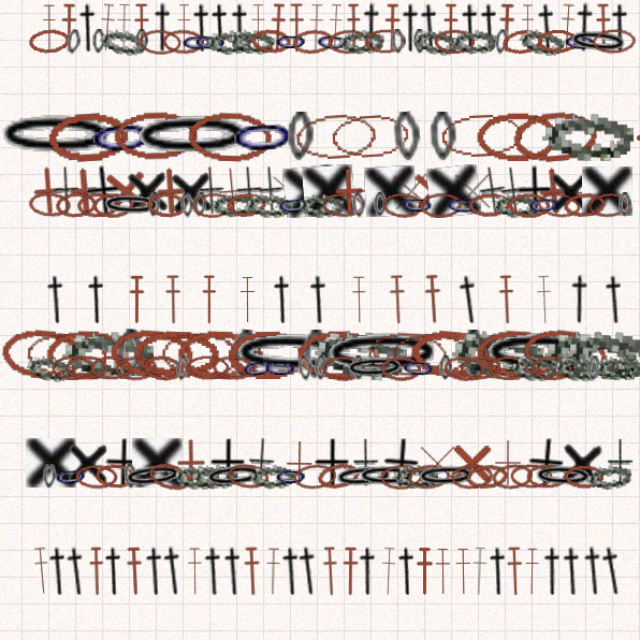chain: (127, 141, 242, 189), (219, 344, 334, 392), (0, 141, 115, 188), (304, 344, 419, 391), (452, 344, 567, 391), (489, 340, 574, 396), (297, 341, 385, 394), (425, 342, 512, 393), (4, 341, 87, 394), (512, 343, 598, 392), (532, 343, 618, 392), (481, 139, 562, 191), (385, 342, 466, 394), (276, 139, 358, 190), (106, 342, 187, 393), (26, 343, 107, 393), (344, 343, 425, 393), (447, 343, 528, 393), (412, 140, 494, 189), (310, 140, 390, 190), (510, 141, 595, 188), (63, 344, 148, 391), (48, 140, 127, 190), (151, 343, 231, 392), (128, 344, 209, 392), (169, 344, 250, 392), (47, 344, 127, 392), (179, 141, 258, 189), (110, 141, 189, 188), (281, 345, 360, 391), (367, 345, 445, 391), (448, 142, 525, 188), (216, 345, 293, 391), (85, 140, 152, 190), (217, 140, 283, 189), (118, 467, 177, 496), (533, 63, 591, 91), (194, 468, 252, 495), (315, 469, 373, 495), (141, 465, 185, 498), (325, 368, 383, 393), (392, 469, 449, 494), (501, 469, 558, 494), (99, 217, 156, 241), (487, 62, 532, 92), (370, 141, 398, 189), (219, 344, 247, 392), (337, 470, 394, 493), (112, 344, 139, 391), (97, 63, 141, 91), (389, 63, 433, 91), (29, 367, 73, 395), (550, 468, 594, 496), (299, 467, 341, 496), (471, 63, 513, 91), (504, 215, 546, 243), (272, 142, 297, 188), (405, 142, 430, 188), (434, 345, 459, 391), (197, 64, 240, 90), (521, 368, 564, 394), (432, 367, 473, 394), (215, 468, 256, 495), (287, 345, 311, 391), (277, 469, 319, 495), (137, 367, 177, 394), (462, 468, 502, 495), (218, 64, 261, 89), (320, 64, 363, 89), (425, 64, 468, 89), (201, 216, 244, 241), (184, 469, 227, 494), (237, 469, 280, 494), (276, 64, 317, 90), (384, 469, 425, 495), (360, 216, 400, 242), (529, 216, 569, 242), (552, 216, 592, 242), (417, 368, 457, 394), (438, 469, 478, 495), (556, 64, 597, 89), (76, 216, 117, 241), (424, 469, 465, 494), (215, 216, 254, 242), (234, 217, 276, 241), (283, 217, 325, 241), (464, 217, 506, 241), (481, 369, 523, 393), (167, 470, 209, 494), (31, 64, 71, 89), (31, 216, 71, 241), (56, 216, 96, 241), (202, 368, 242, 393), (93, 469, 133, 494), (183, 217, 224, 241), (238, 64, 277, 89), (141, 216, 180, 241), (499, 368, 538, 393), (560, 369, 602, 392), (371, 470, 413, 493), (134, 65, 174, 89), (304, 217, 344, 241), (112, 369, 152, 393), (304, 369, 344, 393), (75, 470, 115, 494), (359, 470, 399, 494), (228, 367, 263, 394), (156, 65, 195, 89), (310, 65, 349, 89), (91, 217, 130, 241), (396, 217, 435, 241), (441, 217, 480, 241), (478, 217, 517, 241), (359, 369, 398, 393), (178, 369, 218, 392), (480, 470, 520, 493), (530, 470, 568, 494), (344, 65, 383, 88), (505, 65, 544, 88), (53, 369, 92, 392), (66, 369, 105, 392), (89, 369, 128, 392), (495, 470, 534, 493), (409, 65, 447, 88), (459, 369, 497, 392), (54, 469, 88, 494), (377, 216, 410, 241), (495, 216, 528, 241), (378, 368, 411, 393), (298, 65, 331, 89), (262, 217, 295, 241), (419, 217, 452, 241), (173, 65, 205, 89), (185, 65, 217, 89), (529, 65, 561, 89), (260, 65, 292, 88), (250, 369, 282, 392), (260, 470, 292, 493), (66, 65, 81, 89), (465, 65, 479, 89), (172, 217, 186, 241), (332, 217, 346, 241), (168, 369, 182, 393), (282, 369, 296, 393), (551, 369, 565, 393), (369, 65, 382, 88), (142, 217, 155, 240), (185, 217, 198, 240), (120, 470, 133, 493), (91, 65, 103, 88), (131, 65, 143, 88), (390, 65, 402, 88), (353, 217, 365, 240), (581, 217, 593, 240), (298, 369, 310, 392), (333, 369, 345, 392), (414, 369, 426, 392), (45, 470, 57, 493)
half_double: (560, 545, 591, 594), (427, 293, 457, 341), (62, 546, 91, 594), (535, 40, 564, 87), (152, 546, 181, 593), (278, 546, 307, 593), (337, 40, 365, 87), (531, 293, 559, 340), (544, 546, 572, 593), (143, 40, 170, 87), (215, 41, 242, 87), (374, 41, 401, 87), (392, 41, 419, 87), (501, 41, 528, 87), (569, 41, 596, 87), (44, 294, 71, 340), (564, 294, 591, 340), (46, 547, 73, 593), (136, 547, 163, 593), (209, 547, 236, 593), (263, 547, 290, 593), (334, 547, 361, 593), (506, 547, 533, 593), (74, 41, 100, 87), (180, 41, 206, 87), (197, 41, 223, 87), (430, 41, 456, 87), (448, 41, 474, 87), (82, 294, 108, 340), (255, 294, 281, 340), (289, 294, 315, 340), (98, 547, 124, 593), (191, 547, 217, 593), (371, 547, 397, 593), (456, 547, 482, 593), (525, 547, 551, 593), (33, 546, 54, 593), (95, 40, 115, 87), (523, 40, 543, 87), (398, 293, 418, 340), (254, 41, 274, 87), (365, 294, 385, 340), (120, 547, 140, 593), (111, 41, 130, 87), (290, 41, 309, 87), (308, 41, 327, 87), (467, 41, 486, 87), (467, 294, 486, 340), (502, 294, 521, 340), (230, 547, 249, 593), (303, 547, 322, 593), (357, 547, 376, 593), (442, 547, 461, 593), (475, 547, 494, 593), (60, 41, 78, 87), (128, 41, 146, 87), (236, 41, 254, 87), (272, 41, 290, 87), (558, 41, 576, 87), (123, 294, 141, 340), (157, 294, 175, 340), (226, 294, 244, 340), (330, 294, 348, 340), (86, 547, 104, 593), (177, 547, 195, 593), (250, 547, 268, 593), (322, 547, 340, 593), (391, 547, 409, 593), (408, 547, 426, 593), (427, 547, 445, 593), (42, 41, 59, 87), (168, 41, 185, 87), (326, 41, 343, 87), (362, 41, 379, 87), (416, 41, 433, 87), (488, 41, 505, 87), (191, 294, 208, 340), (492, 547, 509, 593)
noise: (613, 533, 640, 551), (611, 153, 632, 174), (595, 161, 623, 172), (626, 496, 640, 513)
single: (268, 191, 319, 241), (402, 191, 453, 241), (59, 191, 109, 241), (97, 191, 147, 241), (495, 191, 545, 241), (529, 191, 579, 241), (286, 191, 336, 240), (25, 191, 74, 240), (196, 191, 245, 240), (250, 191, 299, 240), (363, 191, 412, 240), (384, 191, 433, 240), (344, 192, 393, 240), (139, 192, 187, 240), (306, 192, 354, 240), (326, 192, 373, 239), (421, 192, 468, 239), (547, 193, 594, 239), (29, 446, 76, 492), (128, 446, 175, 492), (161, 192, 206, 240), (525, 445, 570, 493), (160, 446, 206, 492), (260, 446, 306, 492), (389, 446, 435, 492), (421, 446, 467, 492), (455, 446, 501, 492), (120, 192, 165, 239), (65, 445, 109, 492), (515, 193, 558, 239), (81, 191, 120, 240), (359, 445, 397, 493), (494, 445, 532, 493), (484, 192, 520, 239), (101, 446, 137, 492), (199, 446, 234, 492), (296, 446, 331, 492), (449, 191, 479, 240), (469, 192, 498, 240), (224, 192, 251, 239), (244, 192, 271, 239), (54, 192, 80, 239), (189, 192, 215, 239), (236, 445, 262, 492), (334, 446, 358, 492), (571, 446, 595, 492)
